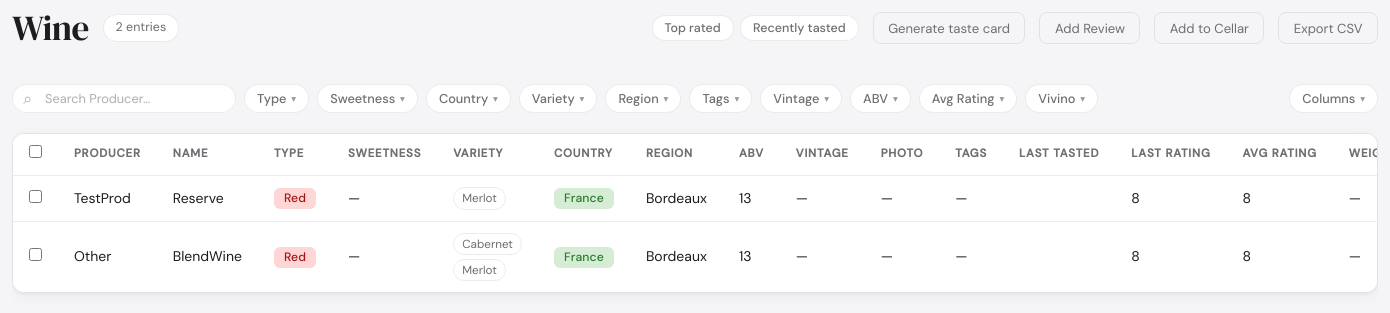
it: clicking a variety chip filters like a tag chip
This screenshot has width=1390, height=313.
Expected: the text "Reserve" is shown, [157,176,258,221]
Click the text "Cabernet". click: (488, 244)
box: [453,233,522,255]
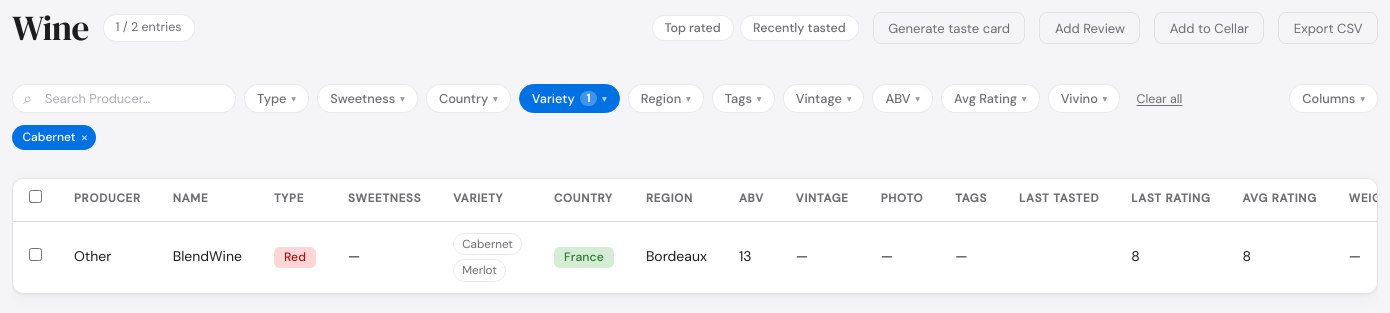
Expected: the text "BlendWine" is shown, [157,221,258,293]
Expected: the text "Reserve" is gone
